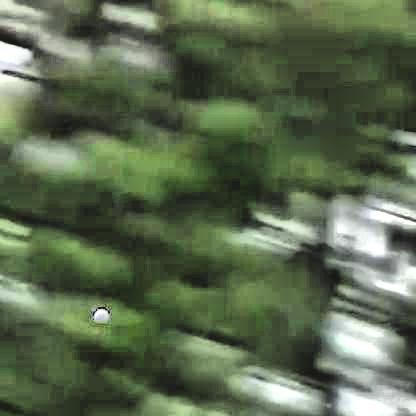golfball: (91, 303, 107, 322)
